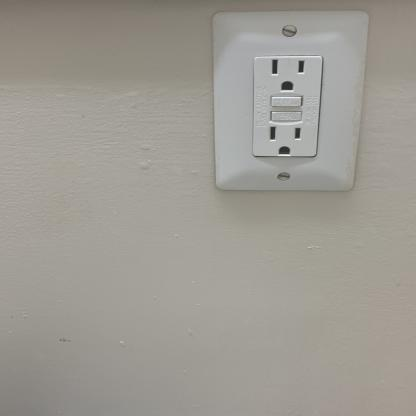OUTLET: (212, 10, 356, 191)
